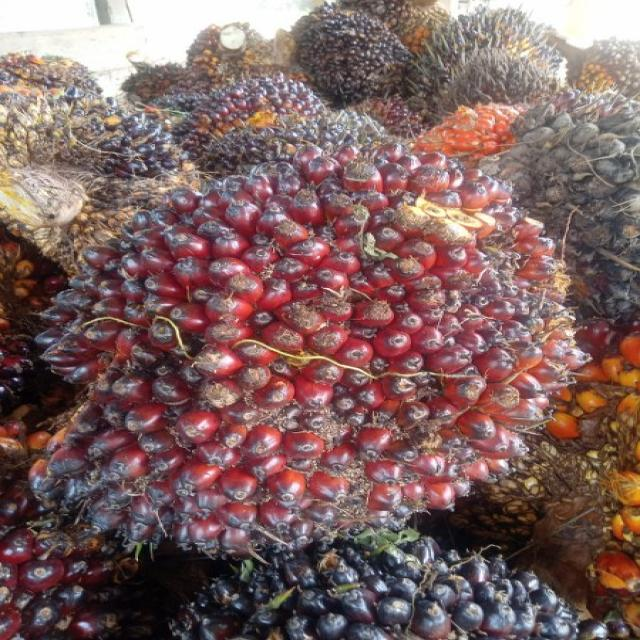fraksi 1: (18, 61, 610, 573)
